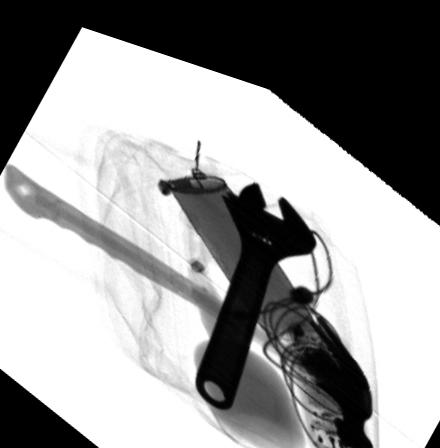Hammer: (4, 163, 374, 430)
Wrench: (195, 166, 317, 398)
